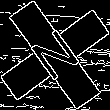N_SE: (24, 23, 86, 87)
